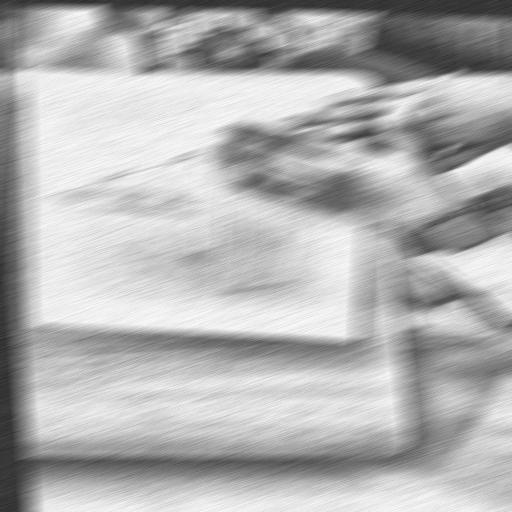boat: (24, 108, 317, 299)
bottom_left: (358, 82, 380, 89)
bottom_right: (343, 337, 365, 343)
top_left: (17, 64, 37, 71)
top_right: (21, 319, 41, 326)
